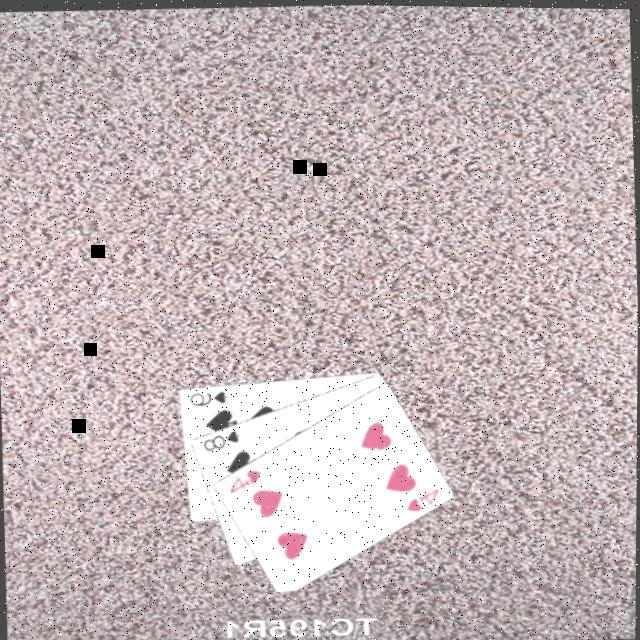4H: (404, 481, 443, 512), (226, 463, 265, 493)
8S: (200, 423, 243, 451)
9S: (187, 385, 231, 407)
